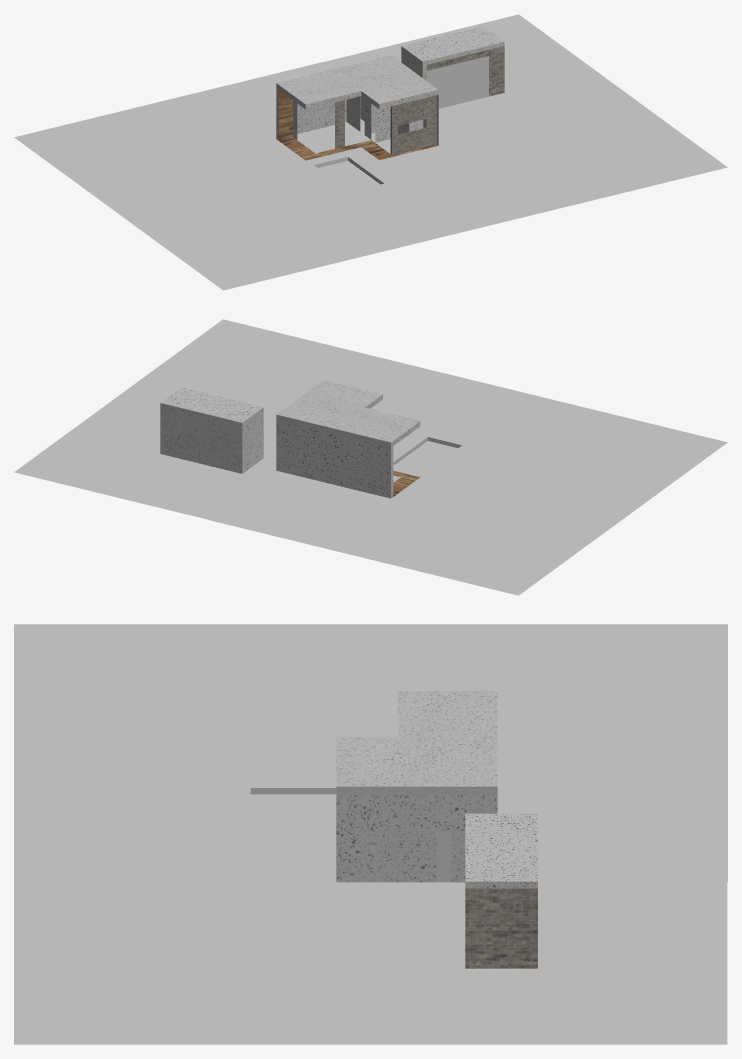
Rendered from casaedd.obj.
3 renders of one model, top to bottom at view 1: azimuth 30°, elevation 25°; view 2: azimuth 150°, elevation 25°; view 3: azimuth 270°, elevation 25°, orthographic. The views are drawn at different scales.
Visible parts, largest first — view 1: pasto_Plano.003, concreto_Plano.004, Blanco_Plano.015, paredes_Plano, Plano.015_Plano.019, garage_Plano.010, puesta_garage_Plano.017, Duelatecho_Plano.016, piso_Plano.002, garagegris_Plano.018, agua_Plano.006; view 2: pasto_Plano.003, garage_Plano.010, concreto_Plano.004, paredes_Plano, Blanco_Plano.015, agua_Plano.006; view 3: pasto_Plano.003, concreto_Plano.004, Blanco_Plano.015, paredes_Plano, garagegris_Plano.018, garage_Plano.010, agua_Plano.006, Plano.001.
Part boxes in pixels (x1=…): pasto_Plano.003: x1=14, y1=14, x2=727, y2=290; concreto_Plano.004: x1=306, y1=55, x2=655, y2=192; Blanco_Plano.015: x1=276, y1=55, x2=438, y2=140; paredes_Plano: x1=293, y1=95, x2=438, y2=145; Plano.015_Plano.019: x1=335, y1=95, x2=436, y2=154; garage_Plano.010: x1=401, y1=26, x2=504, y2=80; puesta_garage_Plano.017: x1=426, y1=56, x2=488, y2=108; Duelatecho_Plano.016: x1=278, y1=90, x2=438, y2=160; piso_Plano.002: x1=297, y1=118, x2=390, y2=153; garagegris_Plano.018: x1=426, y1=46, x2=504, y2=96; agua_Plano.006: x1=319, y1=162, x2=377, y2=191; pasto_Plano.003: x1=14, y1=319, x2=727, y2=595; garage_Plano.010: x1=160, y1=387, x2=263, y2=473; concreto_Plano.004: x1=70, y1=372, x2=463, y2=478; paredes_Plano: x1=276, y1=419, x2=390, y2=498; Blanco_Plano.015: x1=276, y1=380, x2=420, y2=498; agua_Plano.006: x1=398, y1=442, x2=456, y2=471; pasto_Plano.003: x1=14, y1=624, x2=727, y2=1044; concreto_Plano.004: x1=248, y1=786, x2=535, y2=1044; Blanco_Plano.015: x1=336, y1=691, x2=497, y2=795; paredes_Plano: x1=336, y1=795, x2=497, y2=882; garagegris_Plano.018: x1=465, y1=888, x2=537, y2=968; garage_Plano.010: x1=465, y1=813, x2=537, y2=888; agua_Plano.006: x1=256, y1=796, x2=336, y2=816; Plano.001: x1=436, y1=831, x2=451, y2=882.
Bounding box in the file's own units: 25.89 × 2.95 × 18.6.
